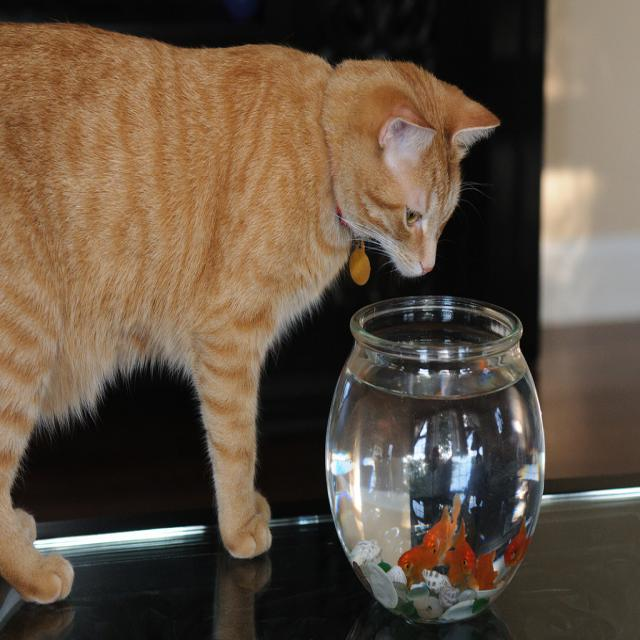Cat: (0, 19, 501, 608)
